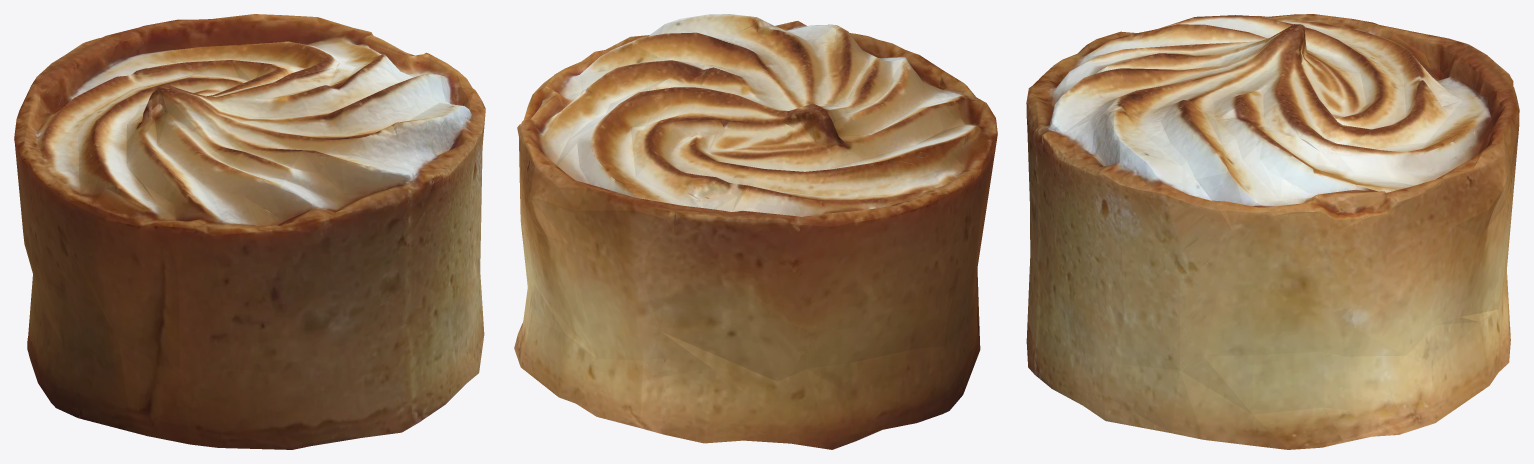
The model's file is pie_hq.glb.
3 renders of one model, left to right at view 1: azimuth 30°, elevation 25°; view 2: azimuth 150°, elevation 25°; view 3: azimuth 270°, elevation 25°, orthographic. The views are drawn at different scales.
Parts seen in each view (by area): view 1: Object_2; view 2: Object_2; view 3: Object_2.
Boxes of the visible parts, left/top/right/bottom form: Object_2: left=14, top=14, right=485, bottom=449; Object_2: left=514, top=14, right=997, bottom=449; Object_2: left=1026, top=14, right=1519, bottom=449.
Size of the model in its own units: 0.2598 by 0.1686 by 0.2568.
1 material, 1 textured.
